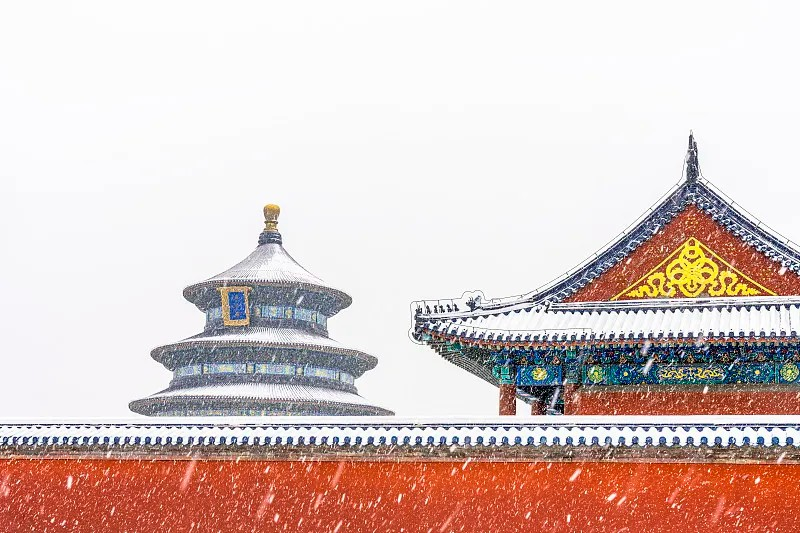Heaven: (129, 203, 395, 417)
